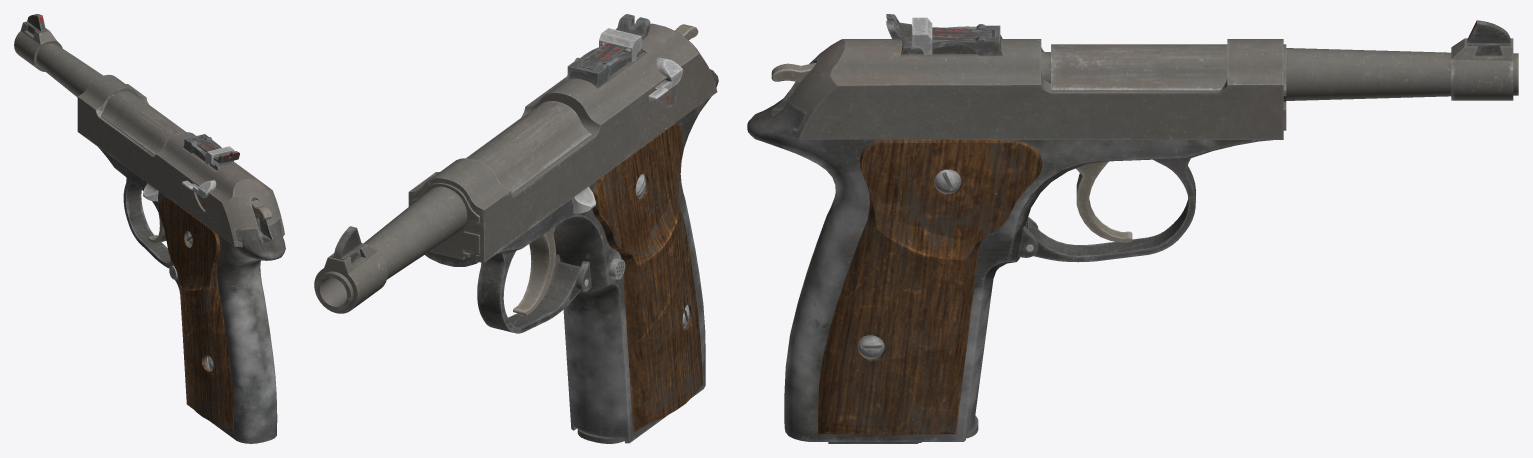
File: service_pistol.gltf
3 renders of one model, left to right at view 1: azimuth 30°, elevation 25°; view 2: azimuth 150°, elevation 25°; view 3: azimuth 270°, elevation 25°, orthographic. The views are drawn at different scales.
Parts seen in each view (by area): view 1: Frame, Slide, Barrel, Safety, Hammer; view 2: Frame, Slide, Barrel, Trigger, Safety, SlideStop; view 3: Frame, Slide, Barrel, Trigger.
Boxes of the visible parts, x1,y1,x2,y2 form: Frame: (98,147,285,443); Slide: (77,74,284,247); Barrel: (14,14,185,155); Safety: (182,179,216,198); Hammer: (251,200,272,235); Frame: (425,69,718,443); Slide: (408,14,717,263); Barrel: (314,101,592,313); Trigger: (513,226,555,315); Safety: (648,57,682,102); SlideStop: (573,186,595,213); Frame: (747,90,1272,441); Slide: (789,14,1283,139); Barrel: (1041,20,1518,130); Trigger: (1076,161,1132,242).
Size of the model in its own units: 0.0318 by 0.1307 by 0.2219.
1 material, 1 textured.
